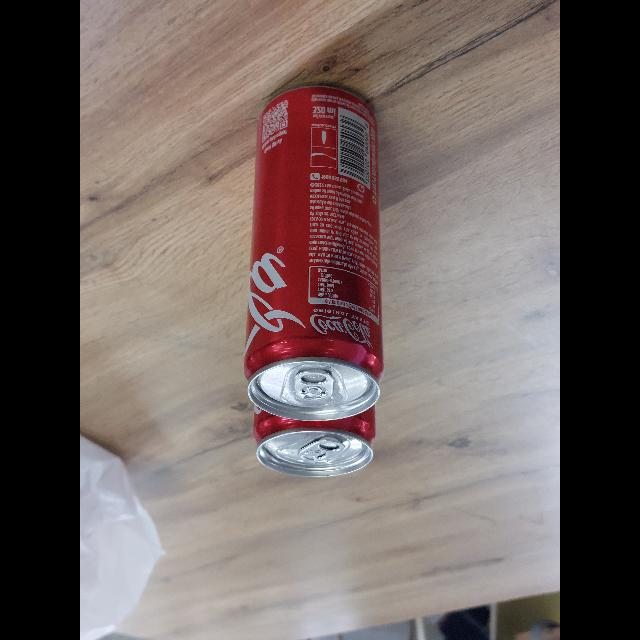coca_cola: (243, 82, 384, 477), (255, 407, 376, 480)
